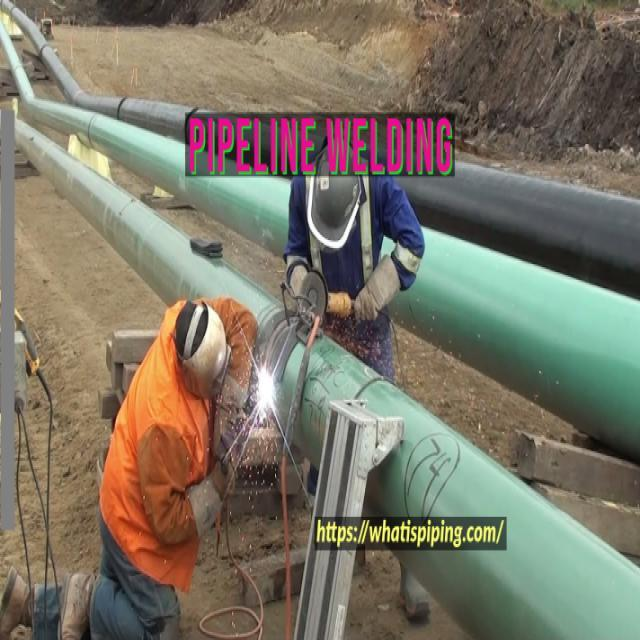with_helmet: (99, 297, 260, 448), (283, 176, 426, 323)
